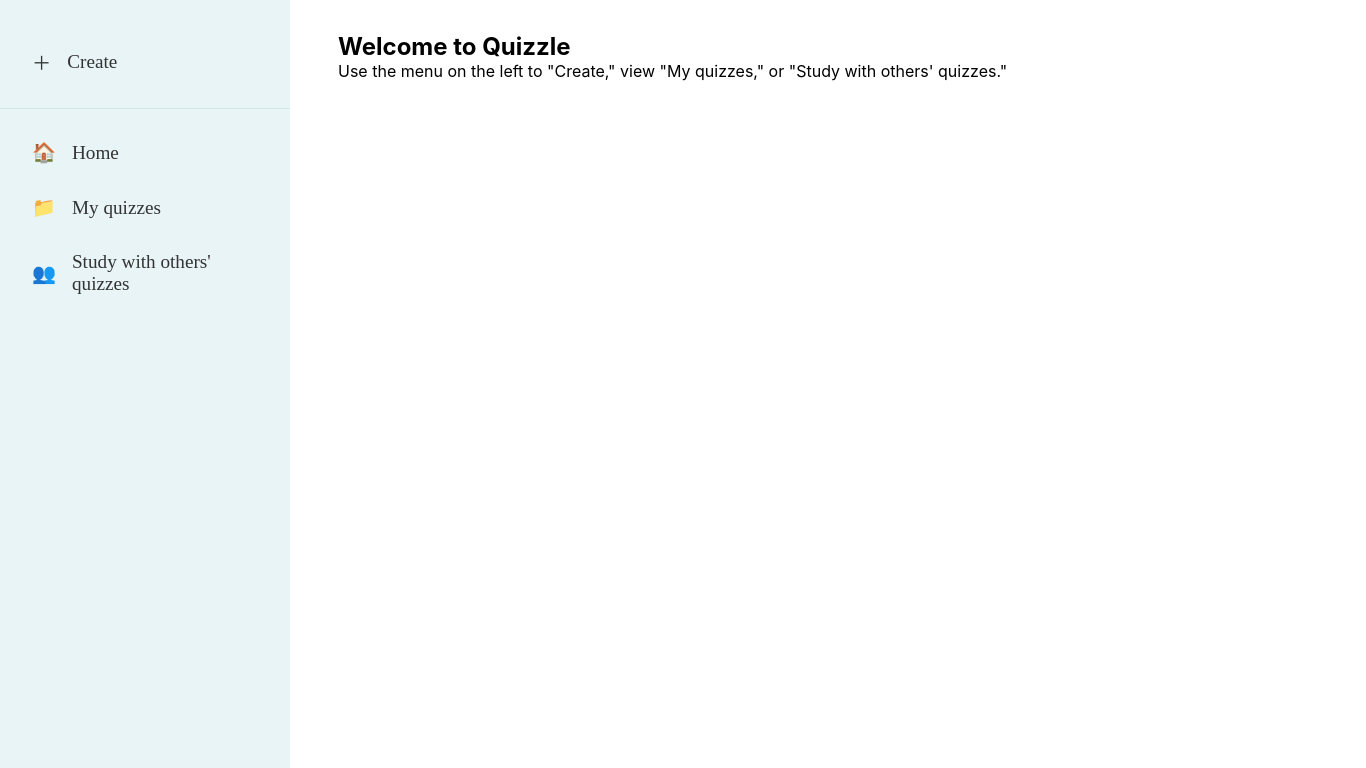
Test: Dashboard › loads and displays others' public quizzes when clicking "Study with others' quizzes"
The image size is (1366, 768).
What coordinates should you click on to do the following:
click the text "Study with others' quizzes"
I would click on:
 (141, 272)
Its box is [72,251,211,294].
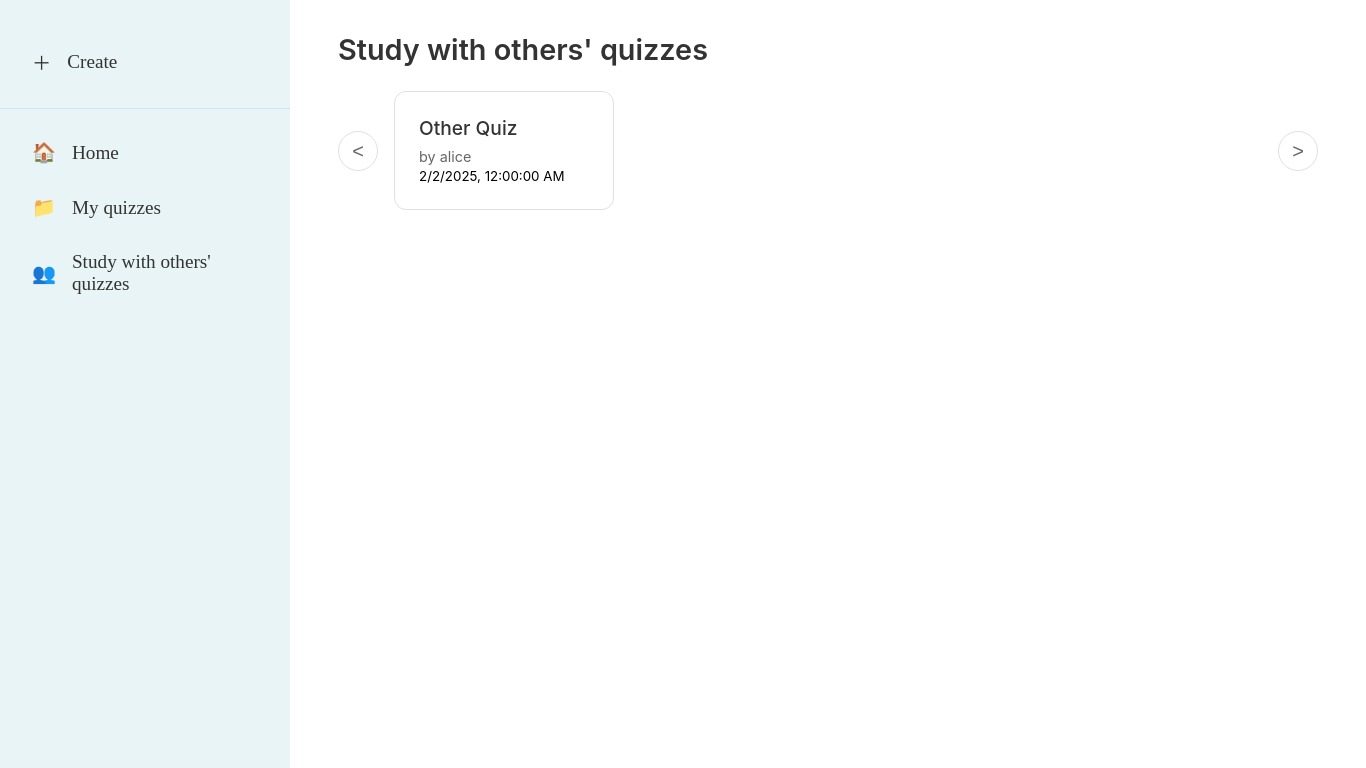
Check: the heading "Study with others' quizzes" is shown, box [338,32,708,67]
Check: the heading "Other Quiz" is shown, box [419,116,518,140]
Check: the text "by alice" is shown, box [419,148,471,165]
